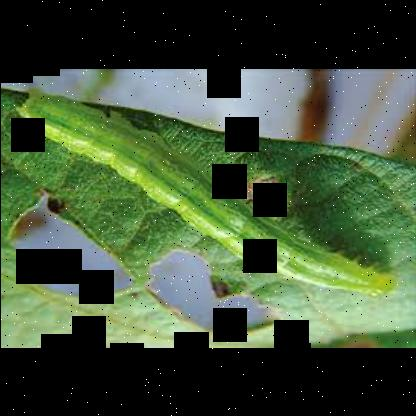agujero: (3, 193, 141, 305), (146, 245, 286, 333)
